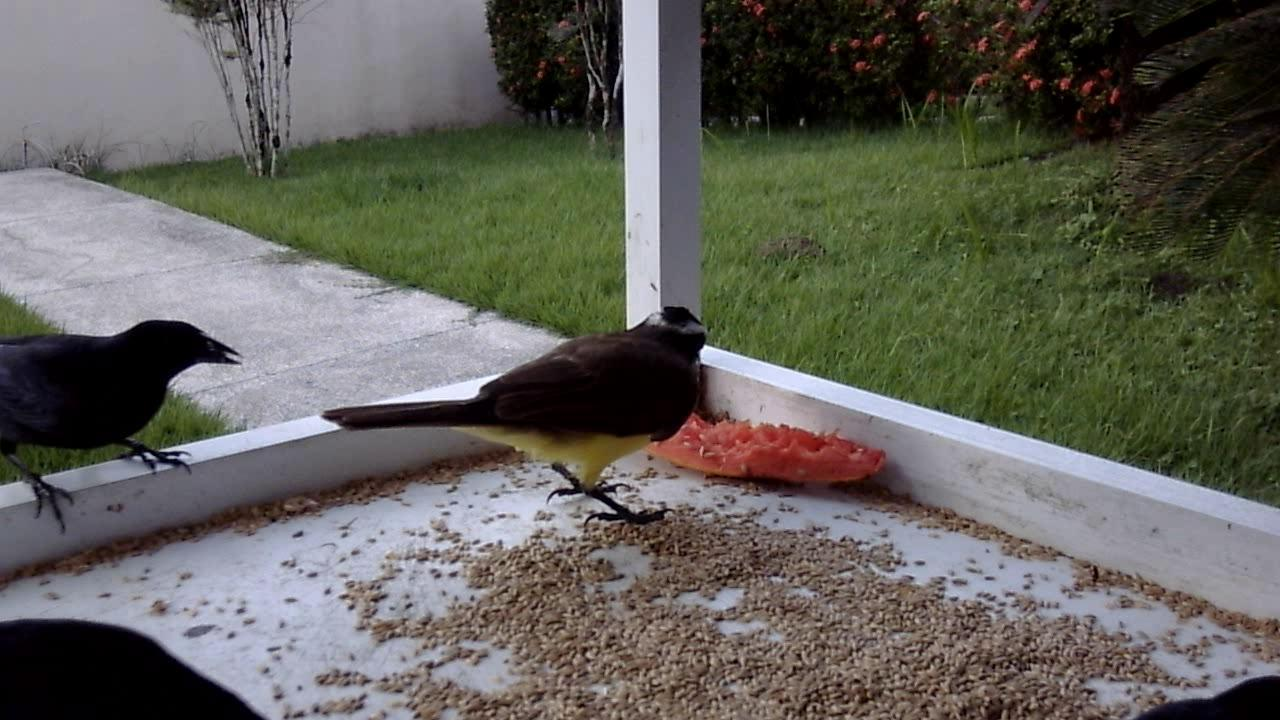bem_te_vi: (322, 295, 712, 522)
chupim: (1, 310, 247, 532)
